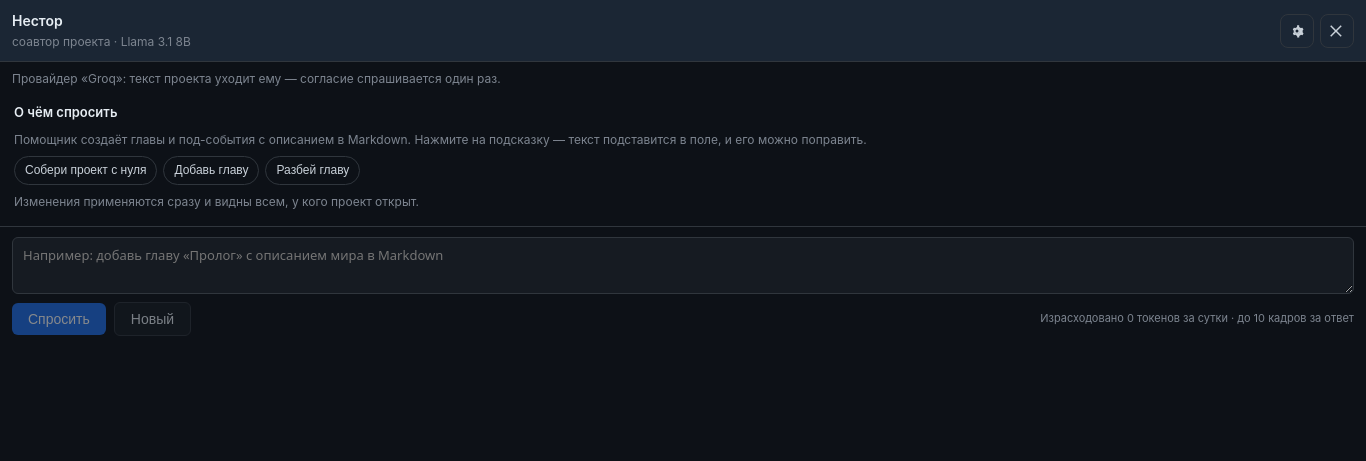
Test case: AssistantPanel › показывает ответ модели и отдельный блок «что изменилось» из ответа сервера
Type "Добавь главу «Пролог»" into the text box named "Сообщение помощнику".
click(683, 266); type("Добавь главу «Пролог»")  # box x1=12 y1=237 x2=1354 y2=294
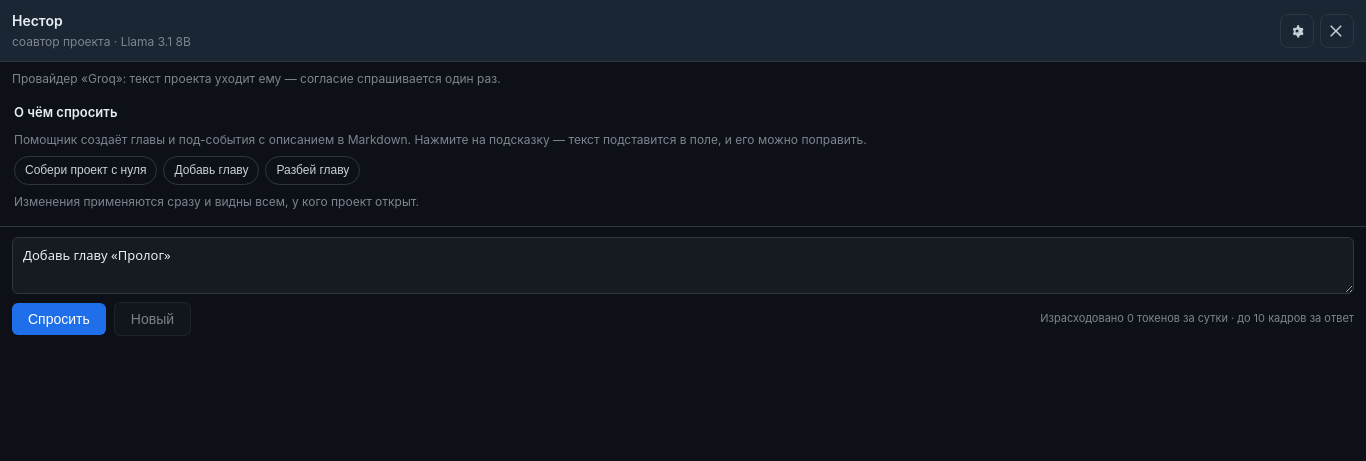
Click the button "Спросить".
click(59, 319)  # box x1=12 y1=303 x2=106 y2=335
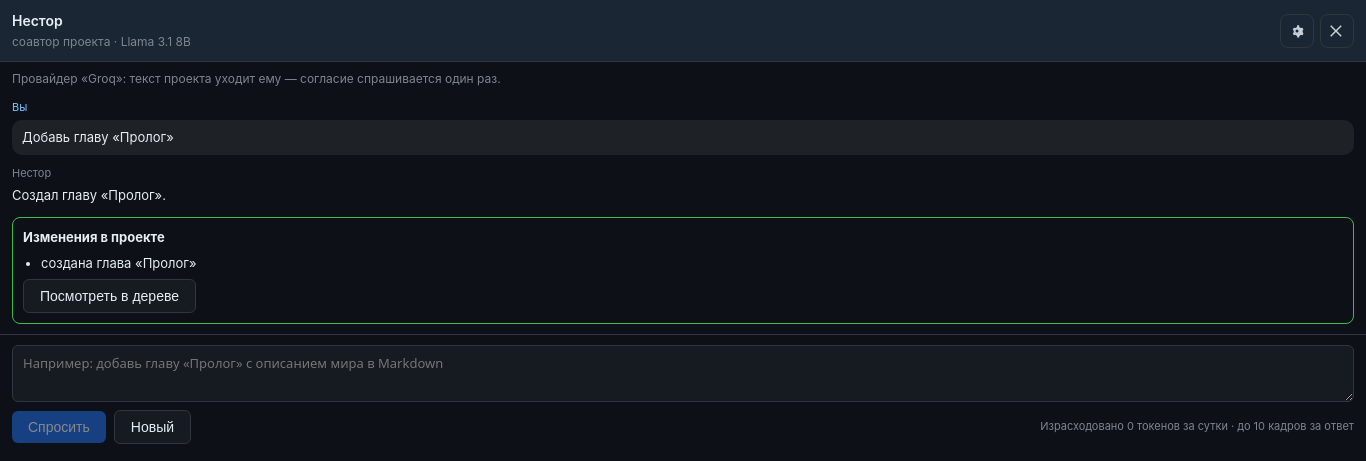
expect the text "Создал главу «Пролог»." is shown: met, box x1=12 y1=187 x2=166 y2=203
expect the text "Изменения в проекте" is shown: met, box x1=23 y1=229 x2=165 y2=245
expect the list item "создана глава «Пролог»" is shown: met, box x1=41 y1=255 x2=197 y2=271
